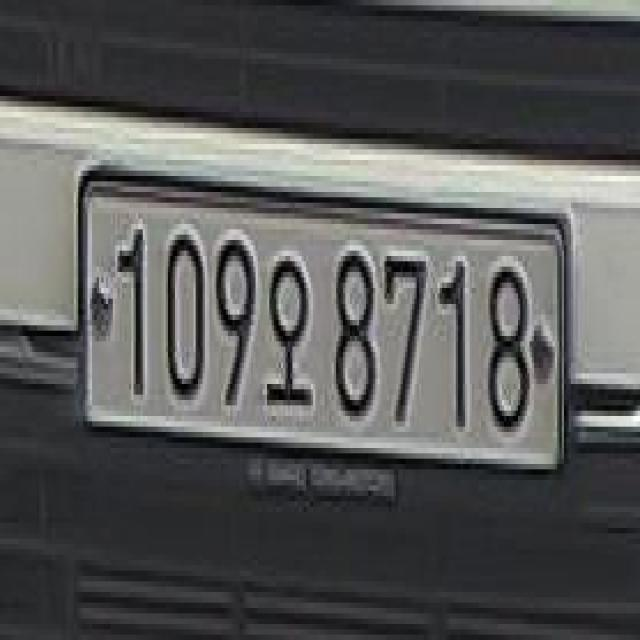illegal_plate: (78, 163, 571, 507)
